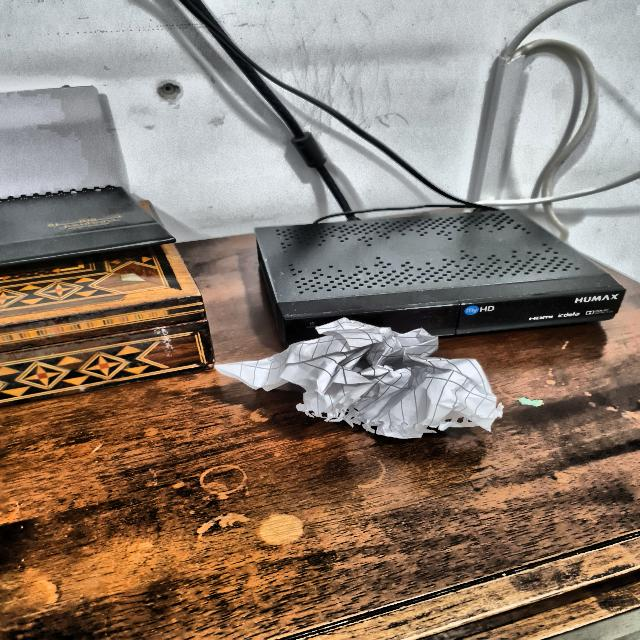Paper: (221, 321, 506, 443)
